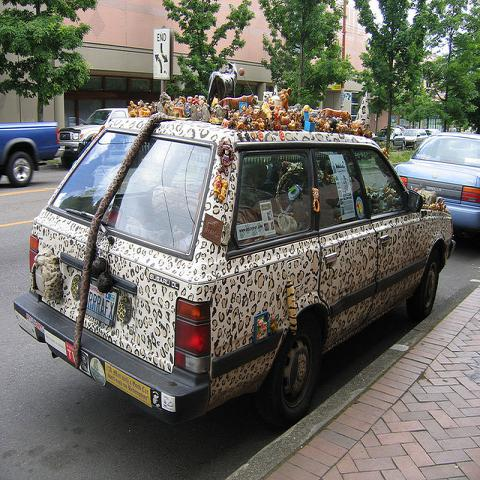car: (14, 59, 458, 422), (395, 131, 479, 255), (371, 127, 406, 151), (403, 129, 428, 152)
truck: (59, 108, 129, 168), (0, 120, 60, 188)
